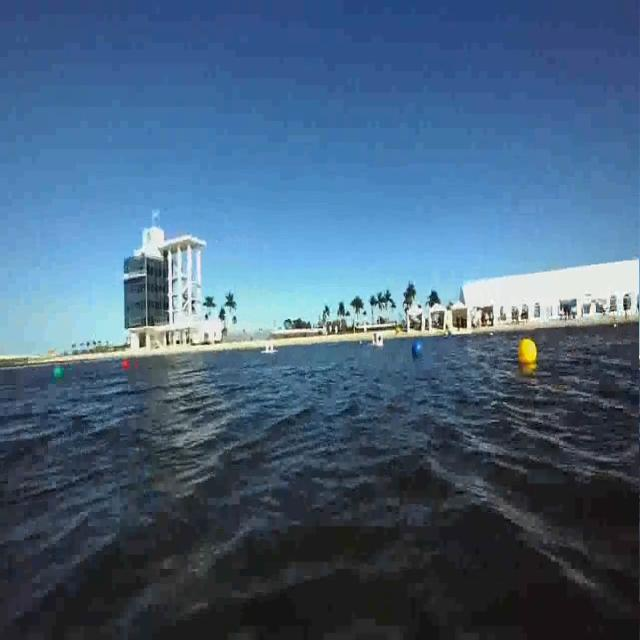blue-buoy: (412, 339, 429, 365)
yellow-buoy: (511, 334, 542, 379)
